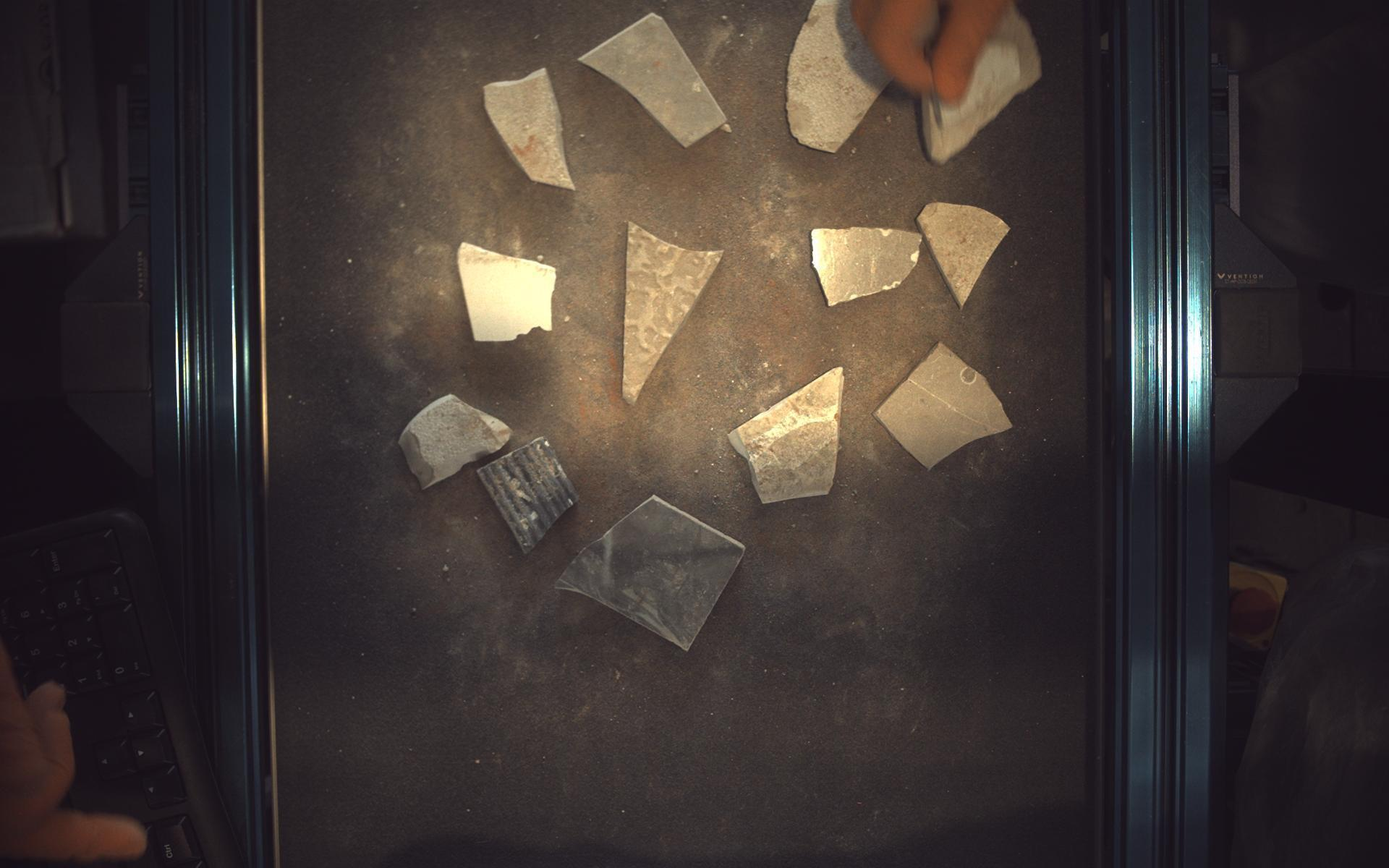tile: (556, 495, 746, 652), (579, 12, 728, 146), (623, 221, 724, 404), (876, 342, 1014, 469), (788, 1, 893, 152), (731, 367, 846, 503), (477, 438, 579, 554), (484, 67, 576, 189), (399, 394, 511, 489), (458, 242, 556, 341), (919, 202, 1011, 306), (814, 227, 924, 306)
